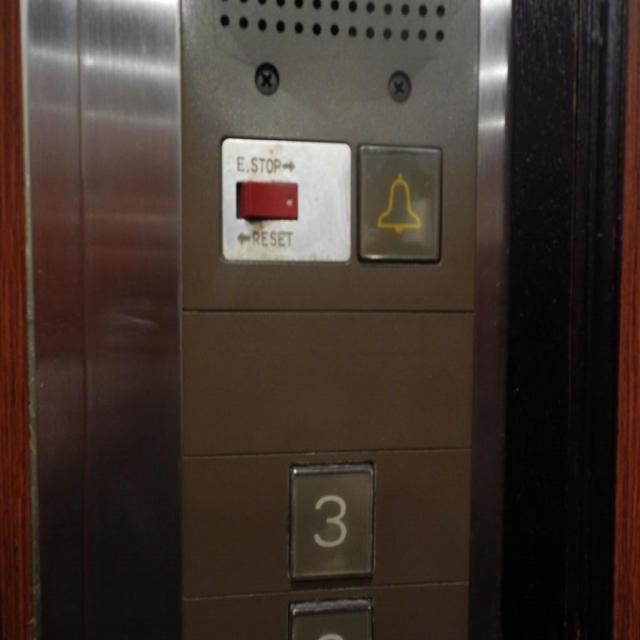3: (282, 456, 380, 586)
alarm: (352, 138, 447, 270)
switch: (213, 132, 356, 266)
